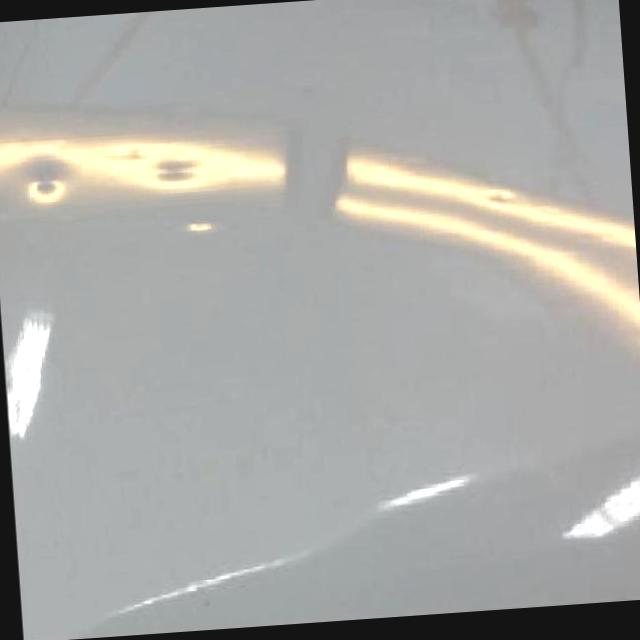dent: (20, 160, 71, 202), (146, 151, 202, 188), (102, 144, 146, 162), (182, 215, 216, 234), (487, 188, 512, 204)
